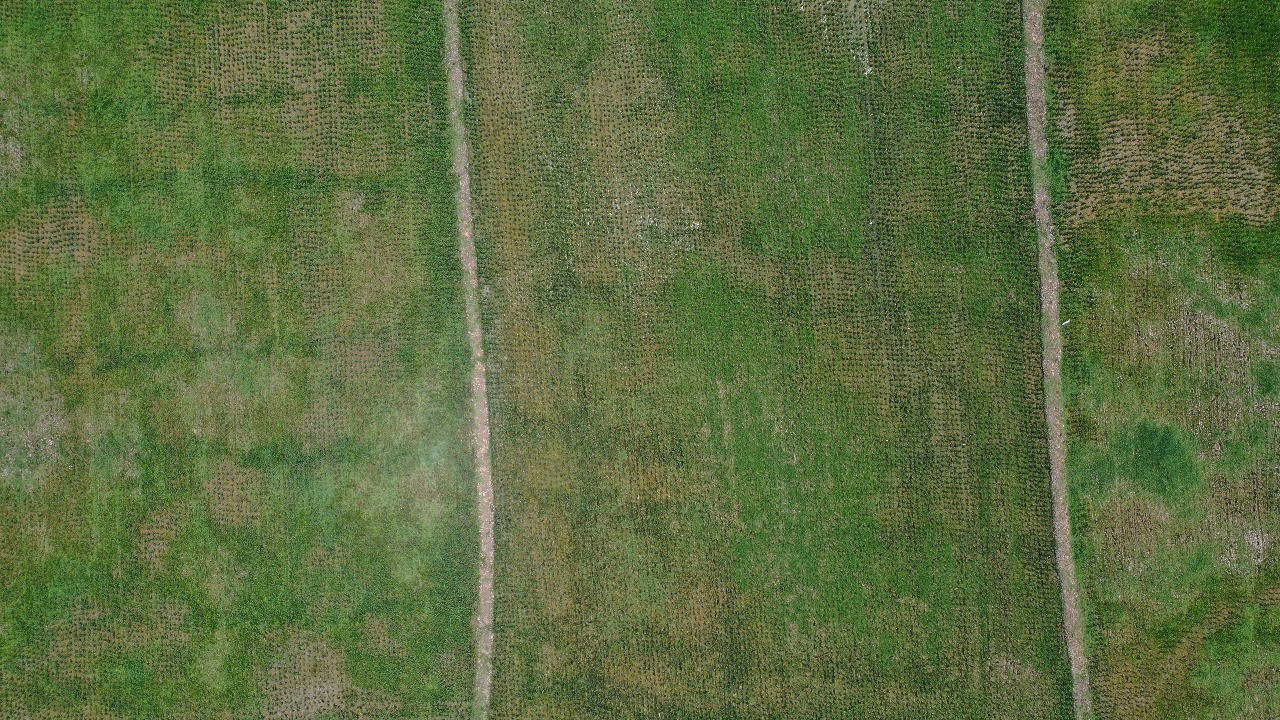irigation: (1020, 2, 1103, 720), (437, 1, 504, 720)
